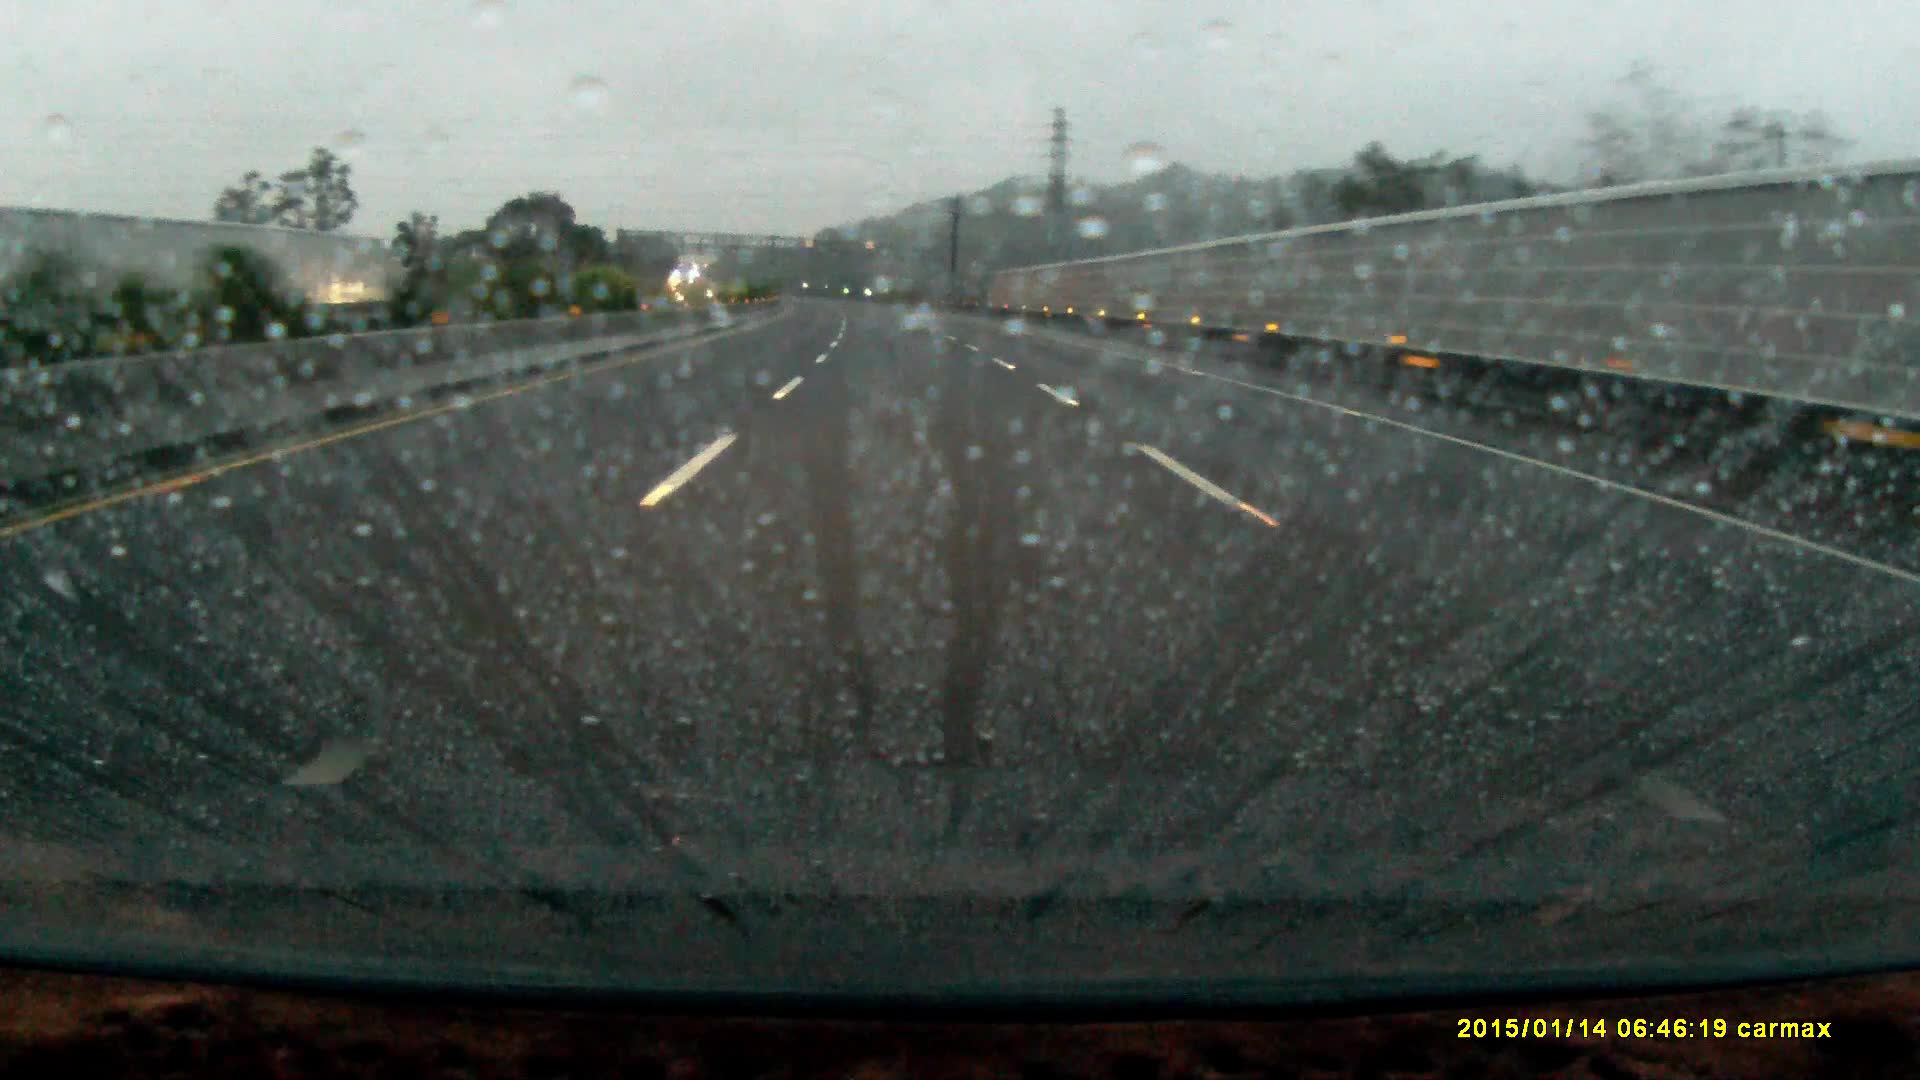vehicle: (667, 272, 703, 301)
